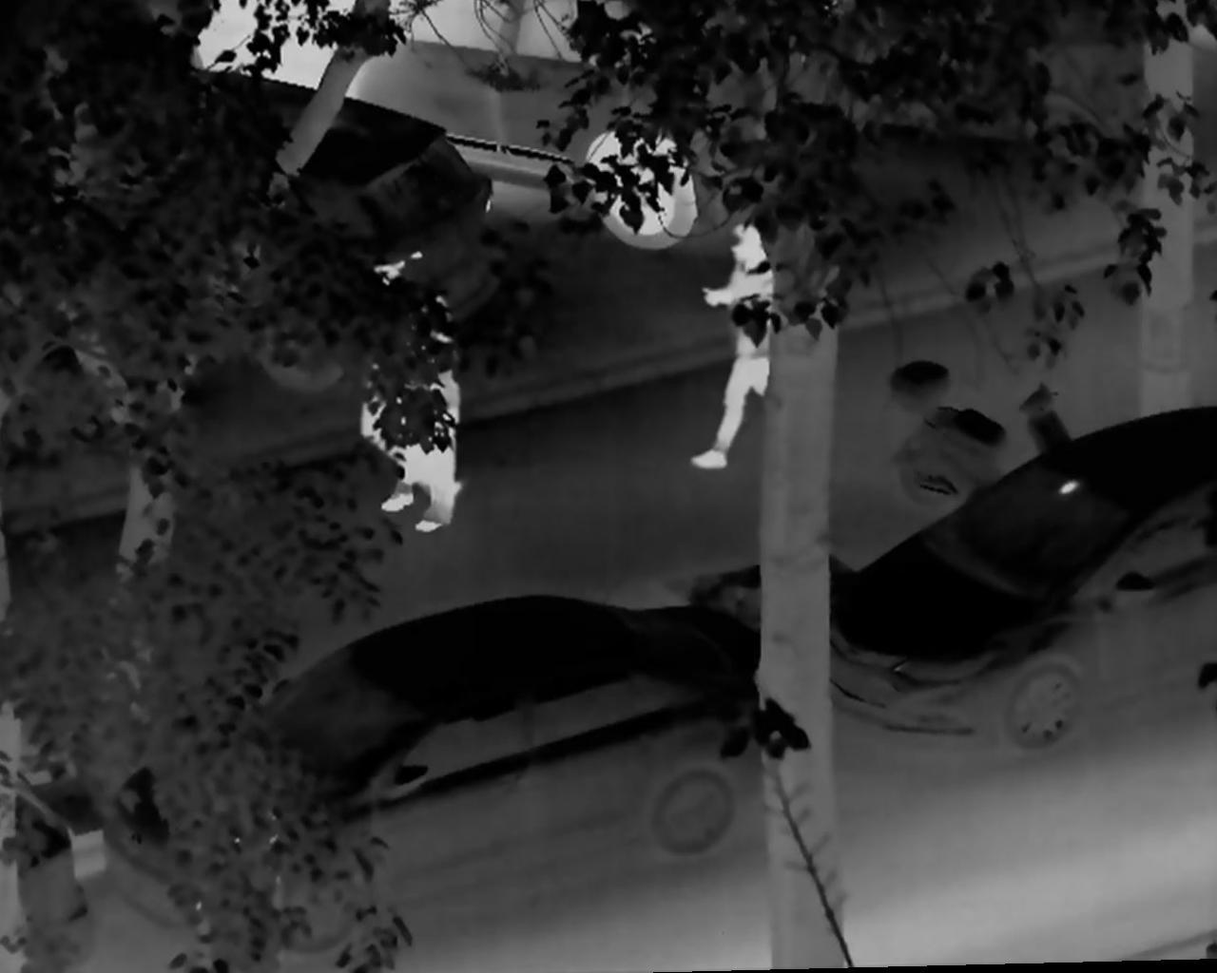person: (679, 217, 790, 470), (398, 281, 464, 542), (350, 361, 412, 522)
